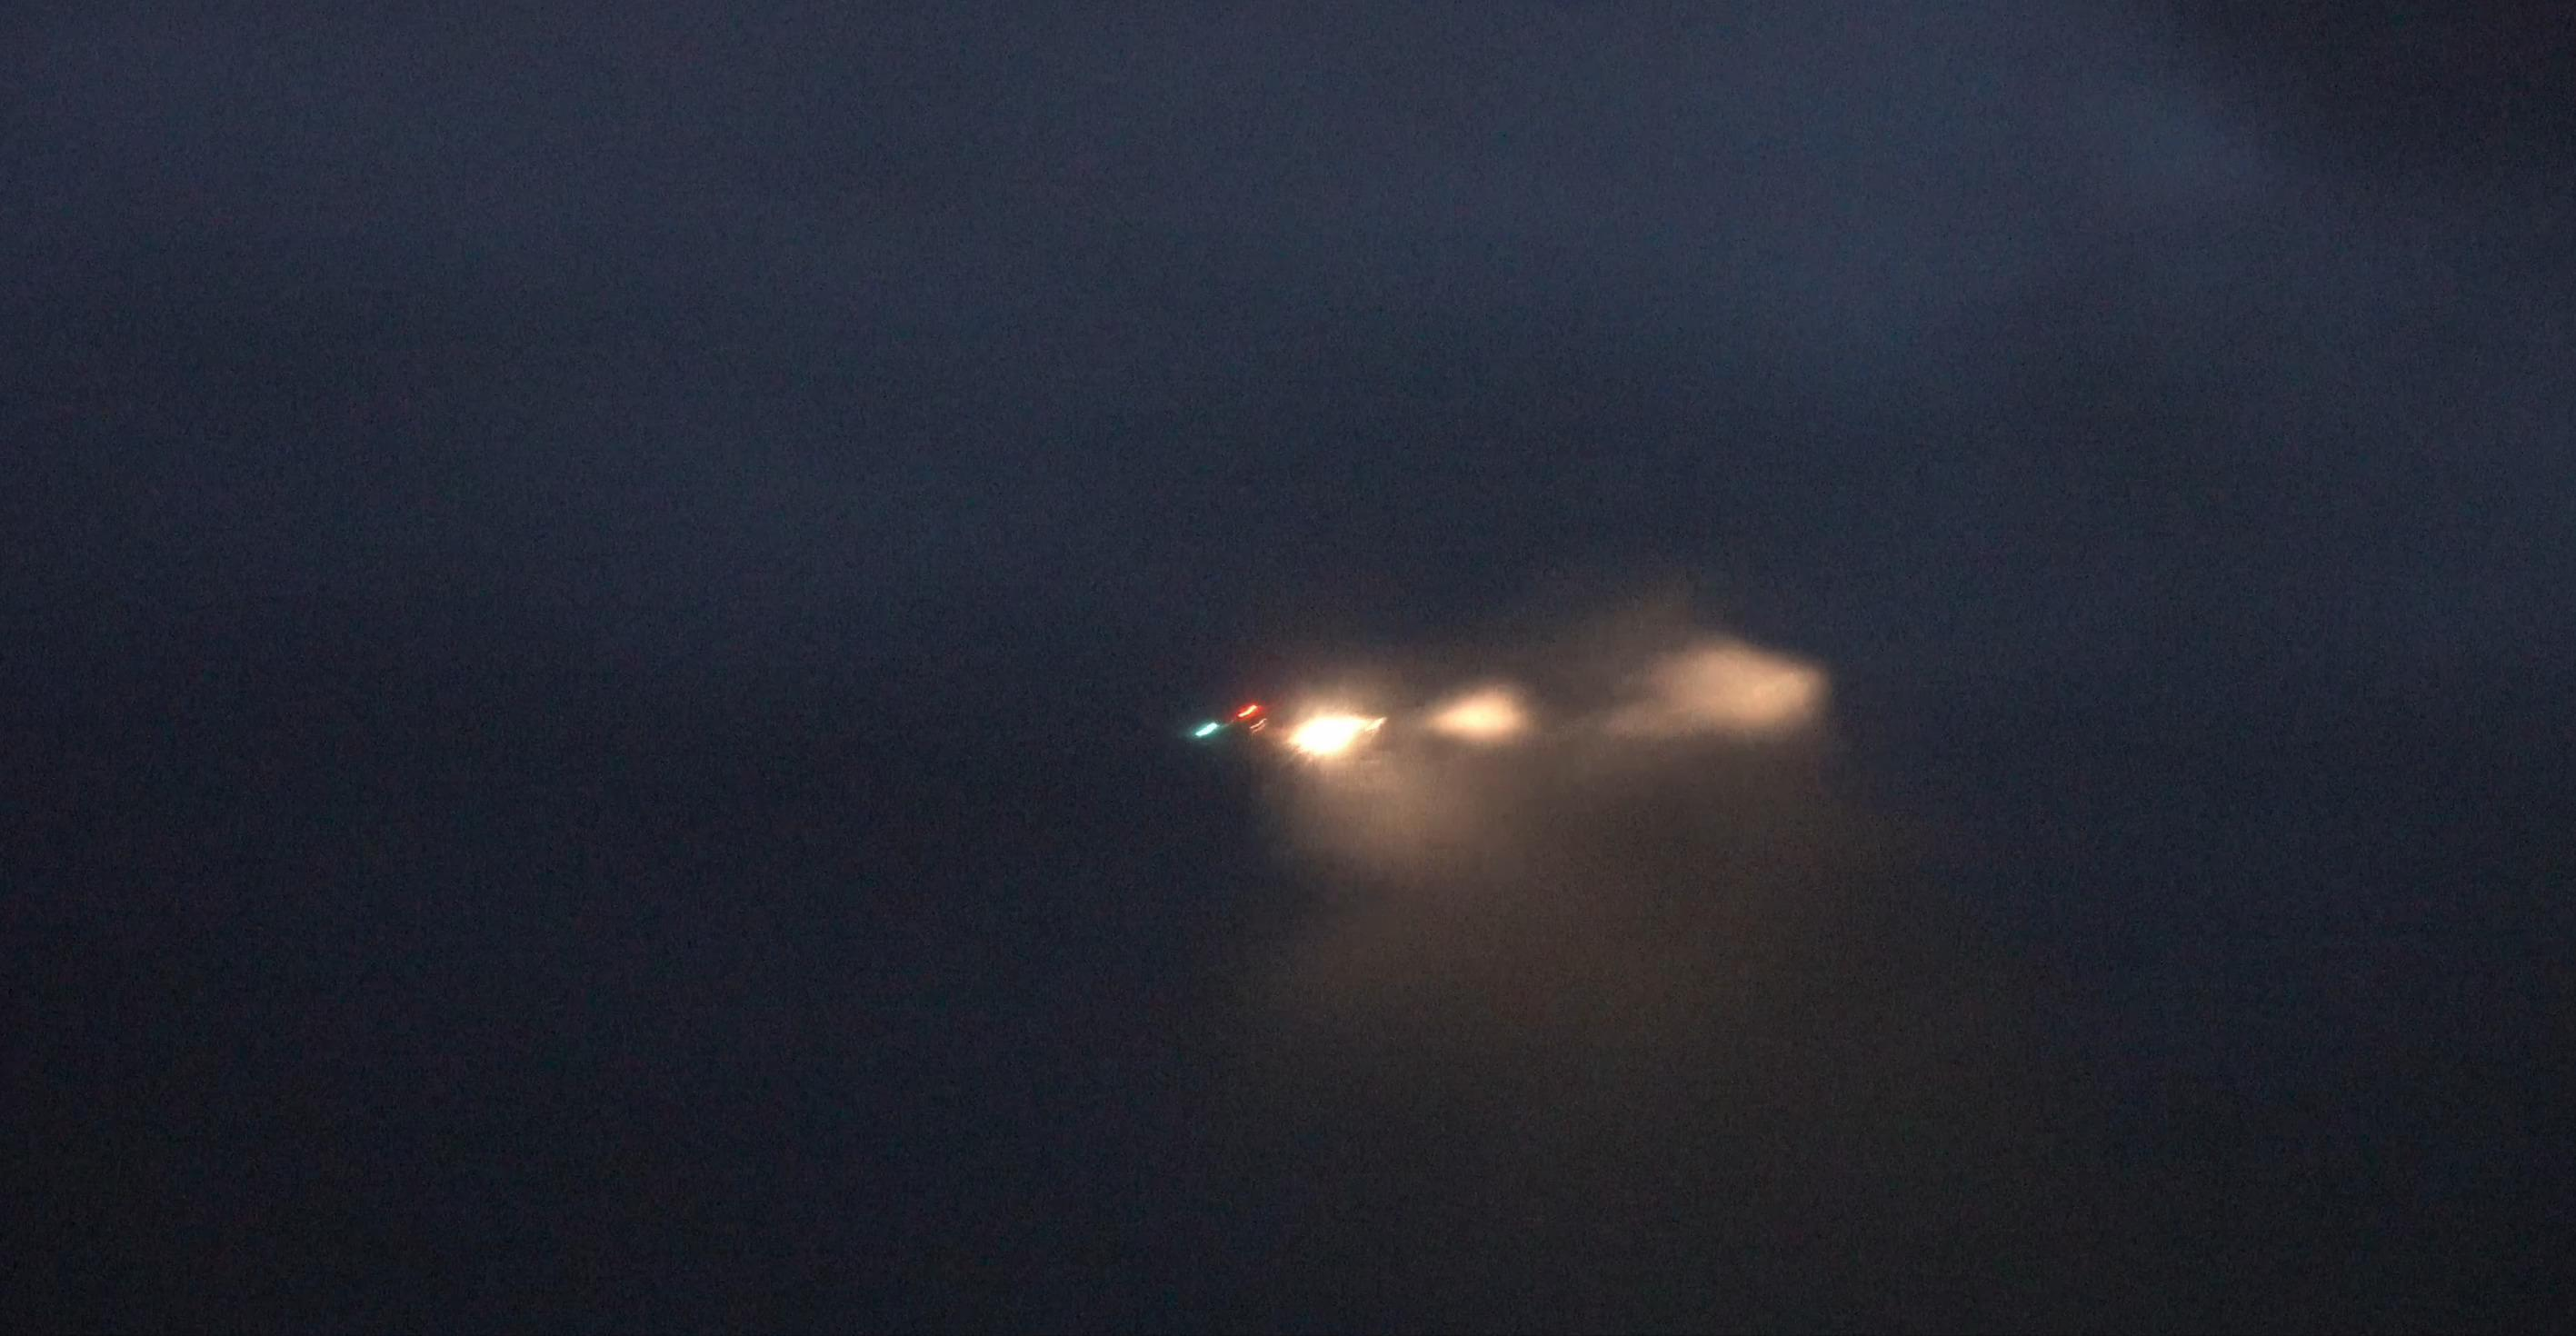Plane: (1170, 683, 1423, 796)
